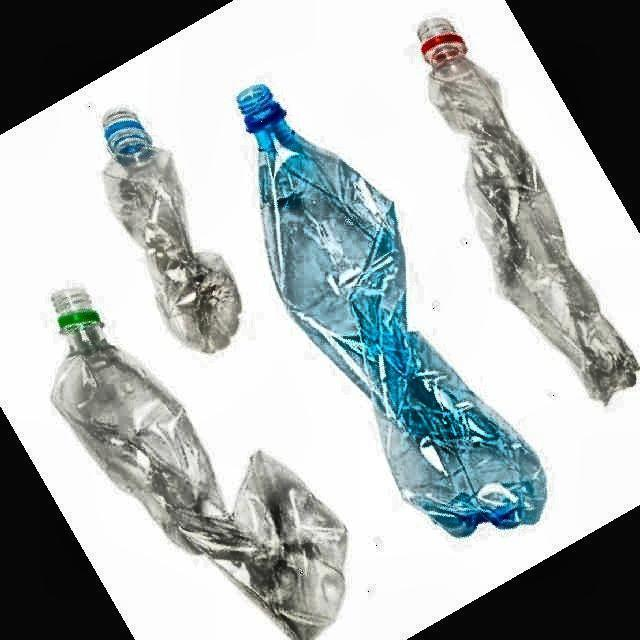plastic: (238, 85, 546, 536), (52, 290, 346, 639), (420, 21, 638, 402), (104, 112, 240, 352)
